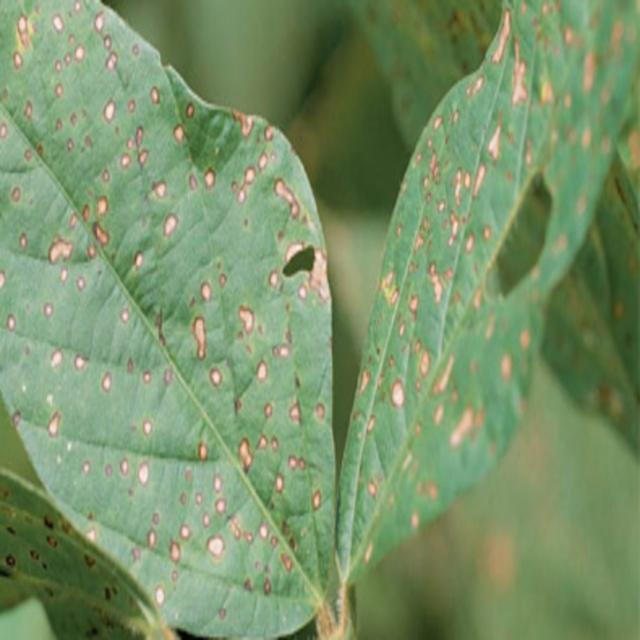leaf_spot: (0, 0, 335, 637), (337, 0, 640, 590)
